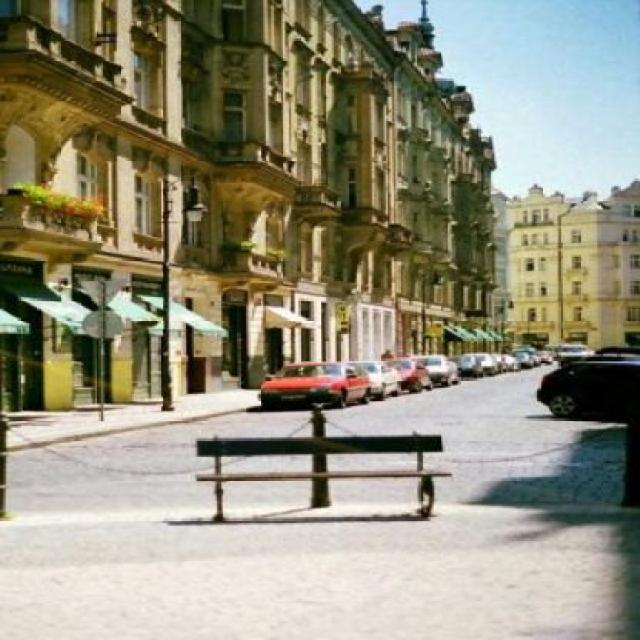Person: (378, 349, 396, 360)
